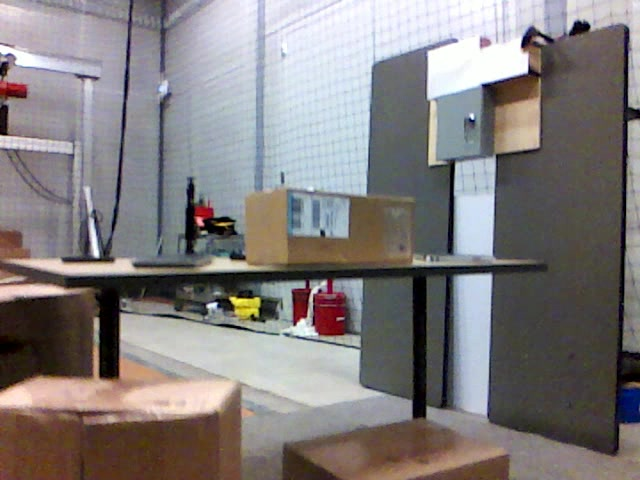box: (1, 375, 240, 480), (283, 419, 511, 480), (243, 189, 415, 265), (1, 282, 95, 380)
